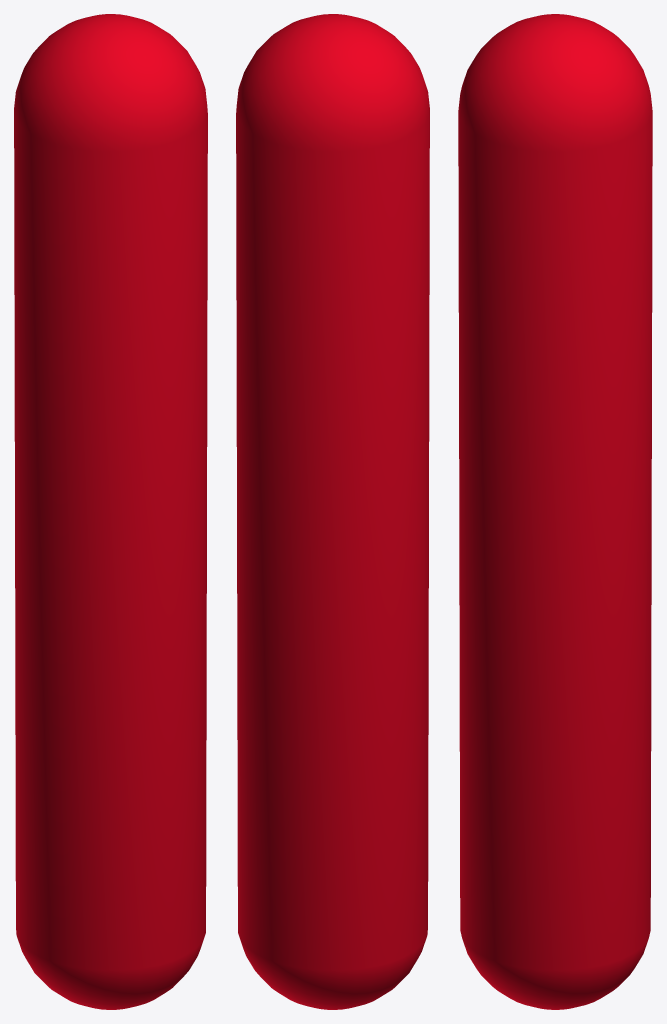
Rendered from mercuri.fbx.
3 renders of one model, left to right at view 1: azimuth 30°, elevation 25°; view 2: azimuth 150°, elevation 25°; view 3: azimuth 270°, elevation 25°, orthographic.
Visible parts, largest first — view 1: Sphere; view 2: Sphere; view 3: Sphere.
Part boxes in pixels (x1=…): Sphere: x1=14, y1=14, x2=207, y2=1009; Sphere: x1=236, y1=14, x2=429, y2=1009; Sphere: x1=458, y1=14, x2=652, y2=1009.
Bounding box in the file's own units: 200 × 1111 × 200.
